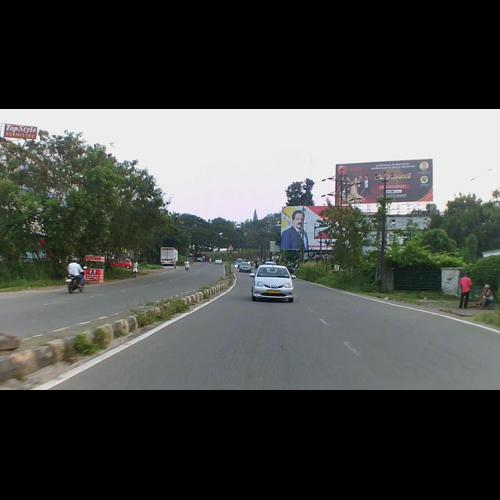car: (247, 266, 296, 304), (240, 262, 252, 272)
